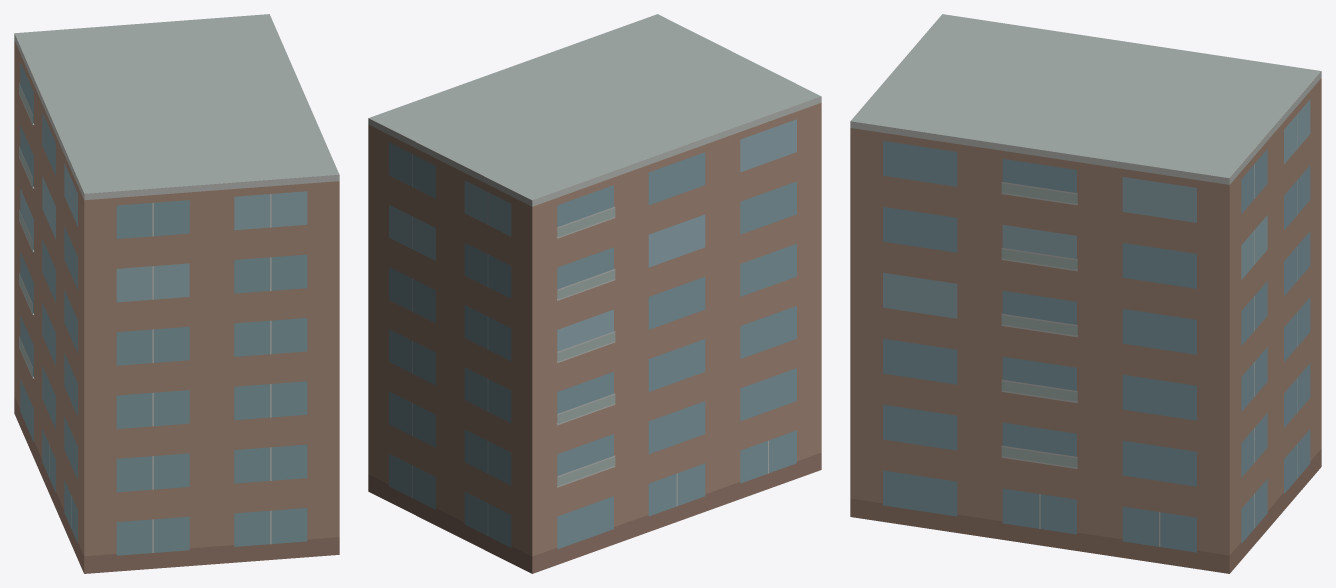
File: survey-upis-32888505.glb
The picture shows the model from 3 angles, left to right: view 1: azimuth 30°, elevation 25°; view 2: azimuth 150°, elevation 25°; view 3: azimuth 270°, elevation 25°; orthographic projection. The views are drawn at different scales.
Visible parts, largest first — view 1: survey-upis-32888505.tmp; view 2: survey-upis-32888505.tmp; view 3: survey-upis-32888505.tmp.
Boxes of the visible parts, x1,y1,x2,y2 form: survey-upis-32888505.tmp: [14, 14, 339, 573]; survey-upis-32888505.tmp: [368, 14, 821, 573]; survey-upis-32888505.tmp: [850, 14, 1321, 573].
Size of the model in its own units: 12.97 by 14.55 by 15.72.
